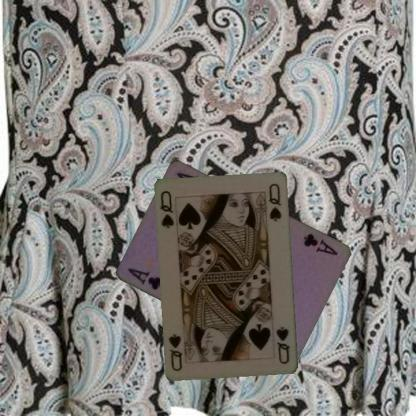Ac: (124, 265, 163, 292), (300, 230, 338, 257)
Qs: (274, 324, 292, 366), (158, 188, 176, 230)
